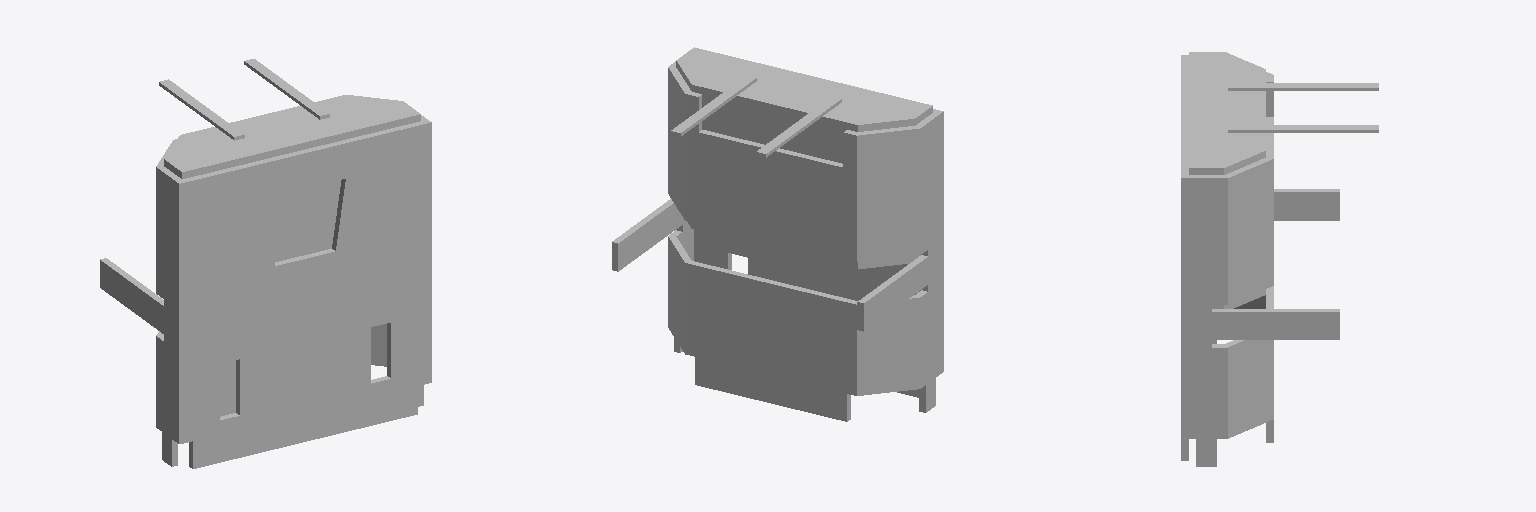
File: MicroUSB-2pin-poweronly-TH.obj
3 renders of one model, left to right at view 1: azimuth 30°, elevation 25°; view 2: azimuth 150°, elevation 25°; view 3: azimuth 270°, elevation 25°, orthographic.
Visible parts, largest first — view 1: Can, Insert, pin-GND, pin-VCC; view 2: Can, Insert, pin-GND, pin-VCC; view 3: Can, Insert, pin-GND, pin-VCC.
Part boxes in pixels (left/top/right/bottom): Can: left=100, top=115, right=431, bottom=468; Insert: left=164, top=95, right=420, bottom=261; pin-GND: left=244, top=59, right=329, bottom=119; pin-VCC: left=159, top=79, right=244, bottom=140; Can: left=612, top=61, right=943, bottom=421; Insert: left=676, top=47, right=932, bottom=268; pin-GND: left=671, top=76, right=756, bottom=136; pin-VCC: left=756, top=96, right=841, bottom=157; Can: left=1181, top=55, right=1339, bottom=466; Insert: left=1189, top=52, right=1265, bottom=308; pin-GND: left=1228, top=125, right=1378, bottom=132; pin-VCC: left=1228, top=83, right=1378, bottom=90.
Size of the model in its own units: 7.5 by 8.5 by 5.1.